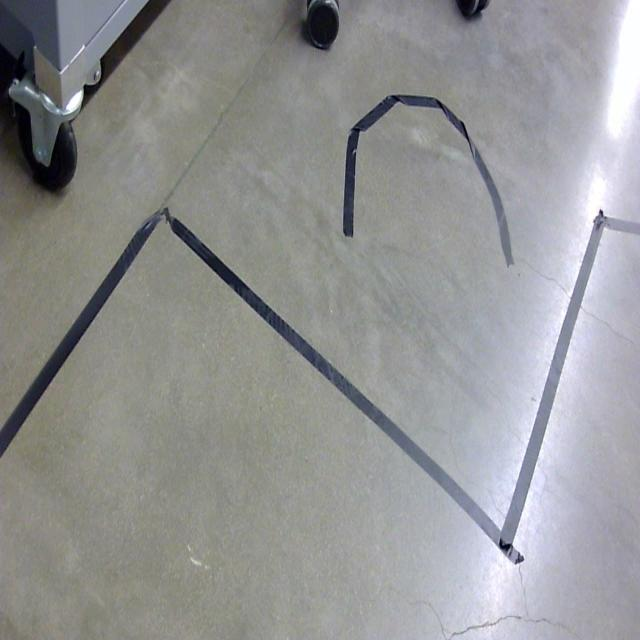tape: (162, 214, 608, 566), (0, 209, 213, 461), (500, 212, 640, 565), (339, 95, 512, 266)
